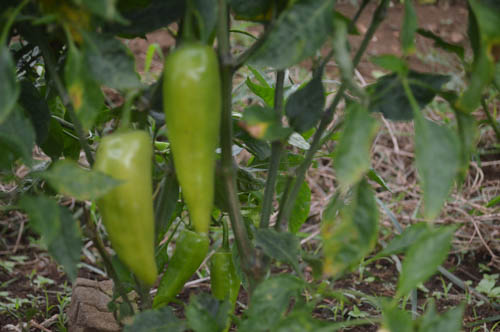ChiliPepper: (162, 47, 220, 229), (93, 133, 158, 284), (156, 231, 203, 310), (209, 255, 240, 311)
